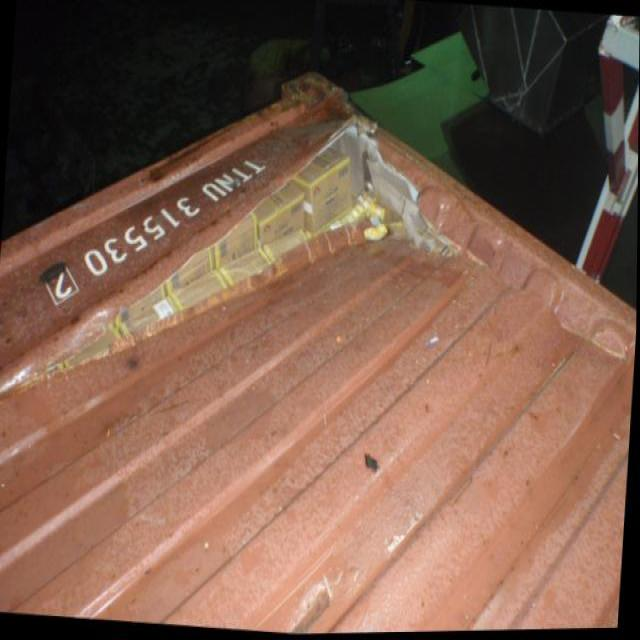hole: (1, 84, 441, 422)
